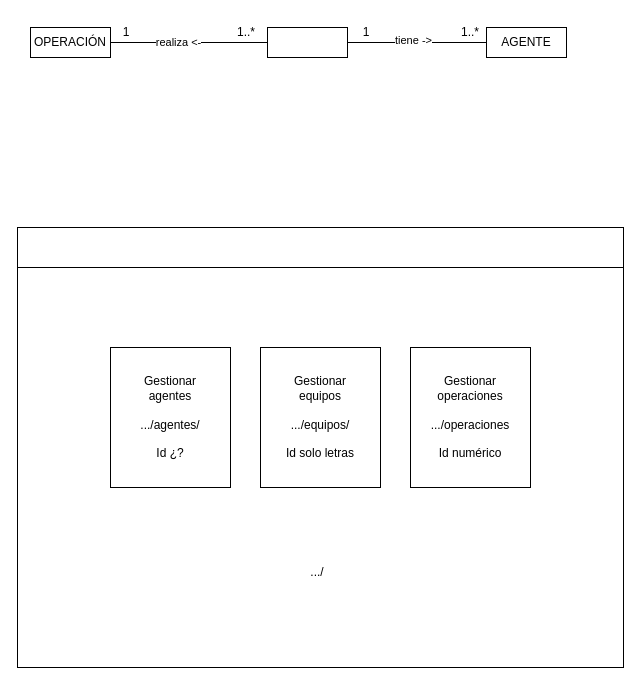
Image size: 641x685. Some labels were removed from this diagram. The shapes that lost their labels are listed below. From the top down, each one's centre as x and y in pixels, then its label:
At (x=307, y=42): "EQUIPO".
At (x=320, y=247): "CRUD Agentes Equipos Operaciones".
